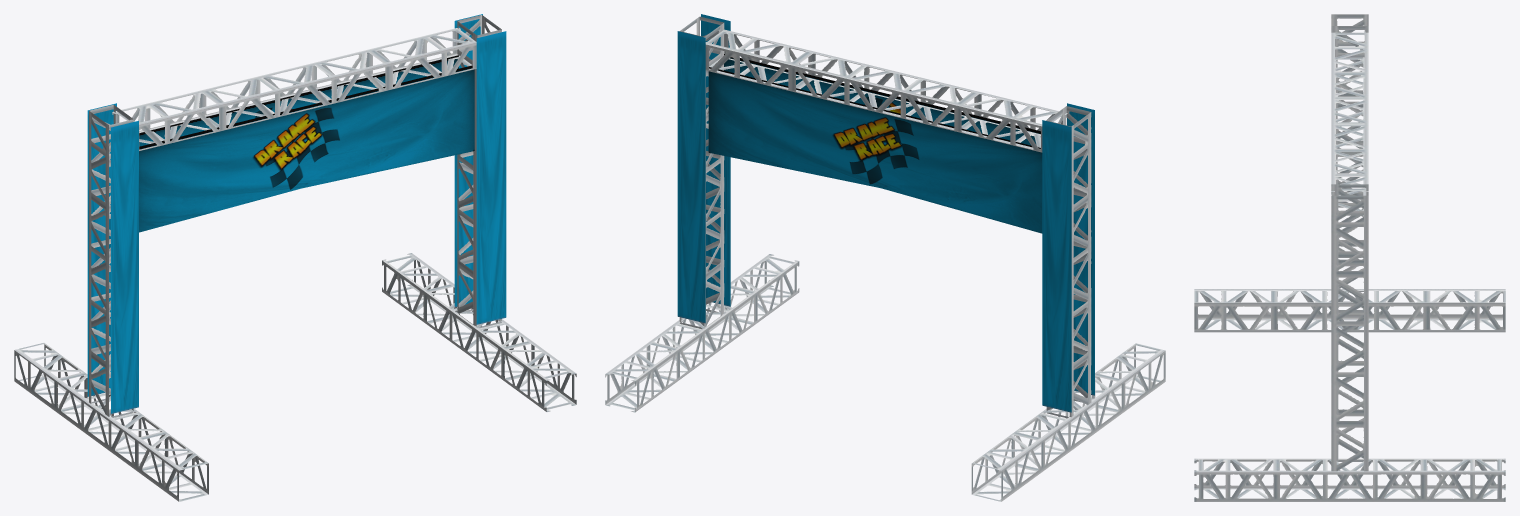
File: ObstacleGate02.fbx
3 views of the same model, side by side, from view 1: azimuth 30°, elevation 25°; view 2: azimuth 150°, elevation 25°; view 3: azimuth 270°, elevation 25° (orthographic). The views are drawn at different scales.
Visible parts, largest first — view 1: Cube.045; view 2: Cube.045; view 3: Cube.045.
Boxes of the visible parts, x1,y1,x2,y2 form: Cube.045: (14,14,576,501); Cube.045: (605,14,1165,501); Cube.045: (1194,14,1505,501).
Size of the model in its own units: 46.03 by 64.09 by 49.78.
